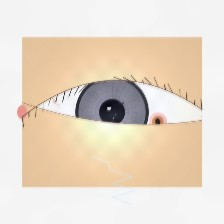foreign_body_visible: (141, 108, 175, 135)
